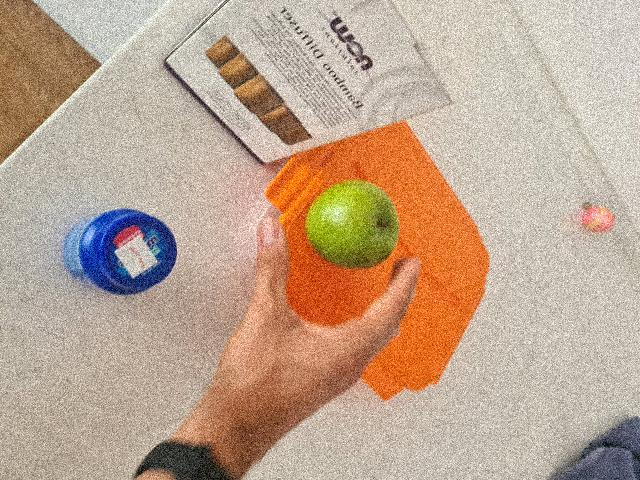apple: (303, 184, 403, 256)
